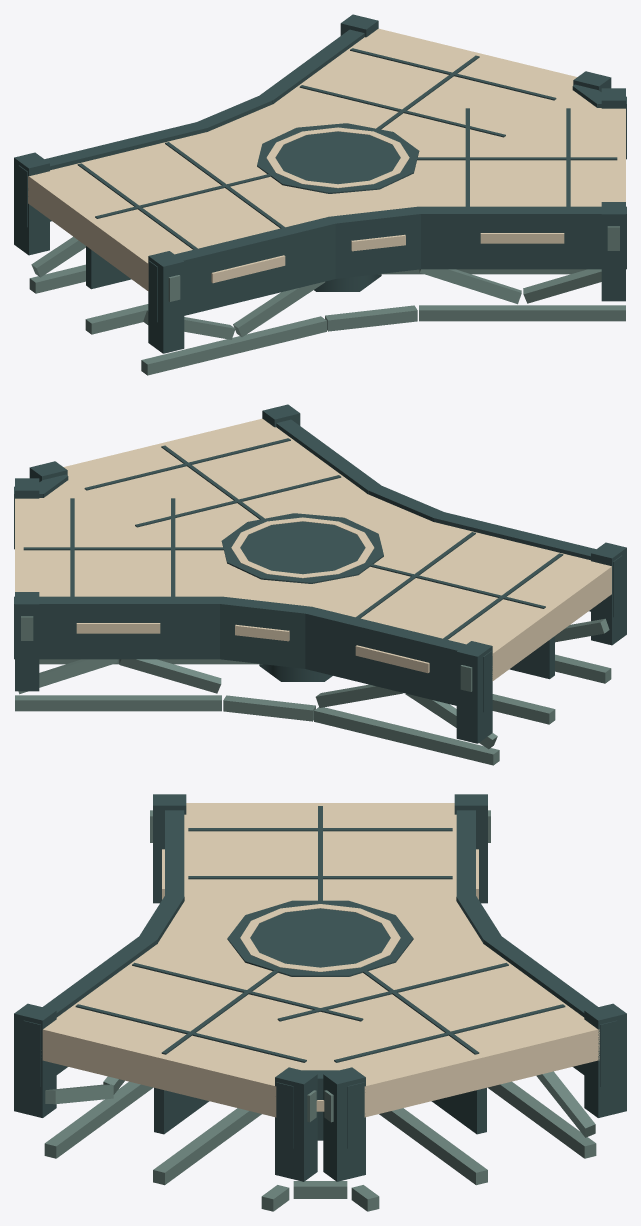
File: Junction_Fork_lab2.glb
3 renders of one model, top to bottom at view 1: azimuth 30°, elevation 25°; view 2: azimuth 150°, elevation 25°; view 3: azimuth 270°, elevation 25°, orthographic. The views are drawn at different scales.
Visible parts, largest first — view 1: Junction_Fork; view 2: Junction_Fork; view 3: Junction_Fork.
Part boxes in pixels (left/top/right/bottom): Junction_Fork: left=14, top=14, right=626, bottom=375; Junction_Fork: left=14, top=404, right=626, bottom=765; Junction_Fork: left=14, top=794, right=626, bottom=1211.
Size of the model in its own units: 7.02 by 1.58 by 6.26.
